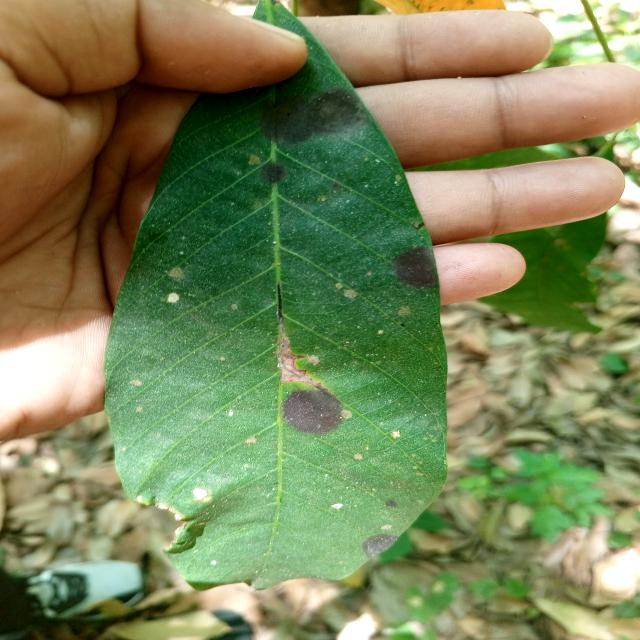Corynespora: (281, 336, 328, 394)
